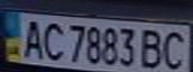3: (118, 25, 142, 69)
7: (63, 21, 87, 63)
8: (81, 22, 103, 65), (100, 24, 121, 66)
A: (18, 16, 48, 60)
B: (139, 26, 169, 70)
C: (157, 28, 190, 71), (39, 19, 66, 62)
